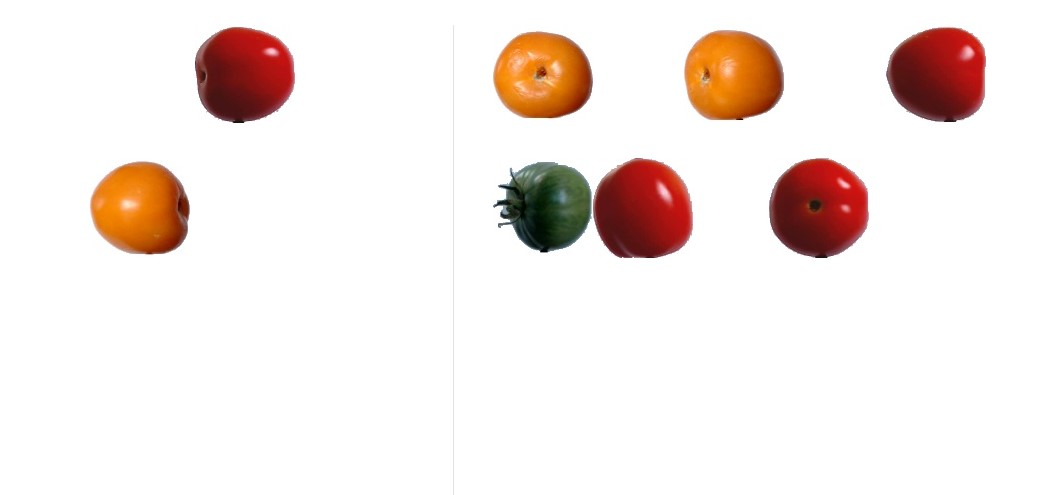half: (91, 158, 194, 258), (494, 26, 596, 122), (686, 24, 784, 120)
red: (596, 155, 698, 265), (885, 26, 990, 130), (192, 24, 298, 124), (767, 160, 869, 258)
